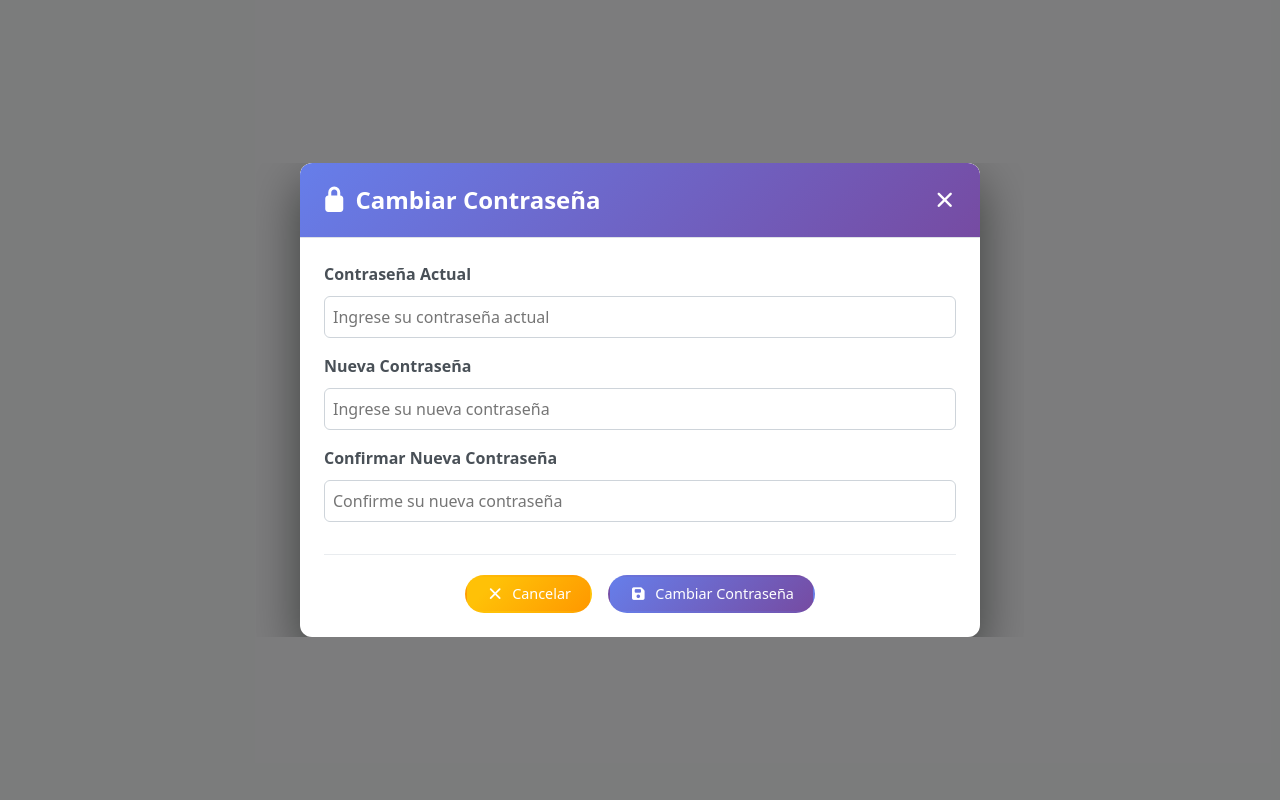
Test: ChangePassword Component › Prueba 4.2: Debe mostrar error cuando la contraseña actual está vacía
Click the button "Cambiar Contraseña" at (712, 594), box [608,575,815,613]
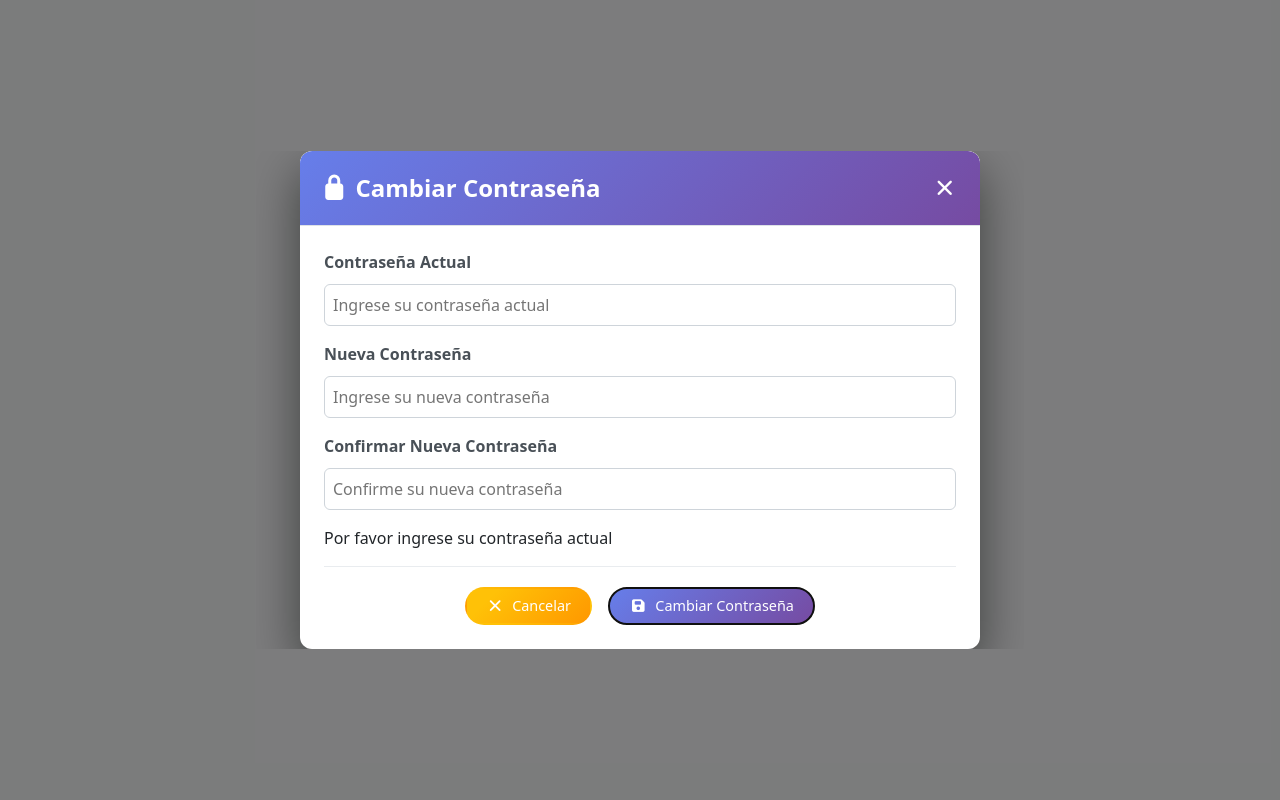
Expected: the text "Por favor ingrese su contraseña actual" is shown, [324,527,612,549]
